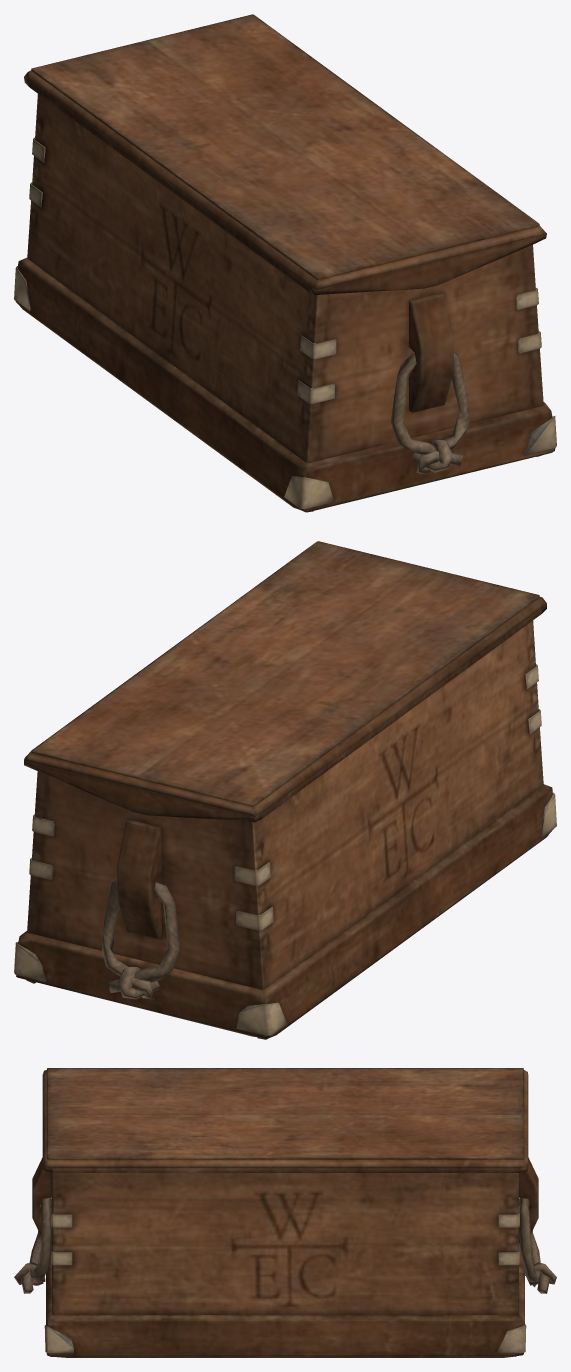
The model's file is wooden_crate_02.glb.
3 views of the same model, one above another, from view 1: azimuth 30°, elevation 25°; view 2: azimuth 150°, elevation 25°; view 3: azimuth 270°, elevation 25° (orthographic). The views are drawn at different scales.
Parts seen in each view (by area): view 1: wooden_crate_02_crate, wooden_crate_02_lid; view 2: wooden_crate_02_crate, wooden_crate_02_lid; view 3: wooden_crate_02_crate, wooden_crate_02_lid.
Boxes of the visible parts, x1,y1,x2,y2 form: wooden_crate_02_crate: (14, 94, 556, 512); wooden_crate_02_lid: (24, 14, 546, 295); wooden_crate_02_crate: (14, 620, 556, 1039); wooden_crate_02_lid: (24, 541, 546, 822); wooden_crate_02_crate: (14, 1157, 556, 1357); wooden_crate_02_lid: (42, 1068, 528, 1172).
Size of the model in its own units: 0.5291 by 0.464 by 1.16.
Materials: 1 (1 with a texture image).
